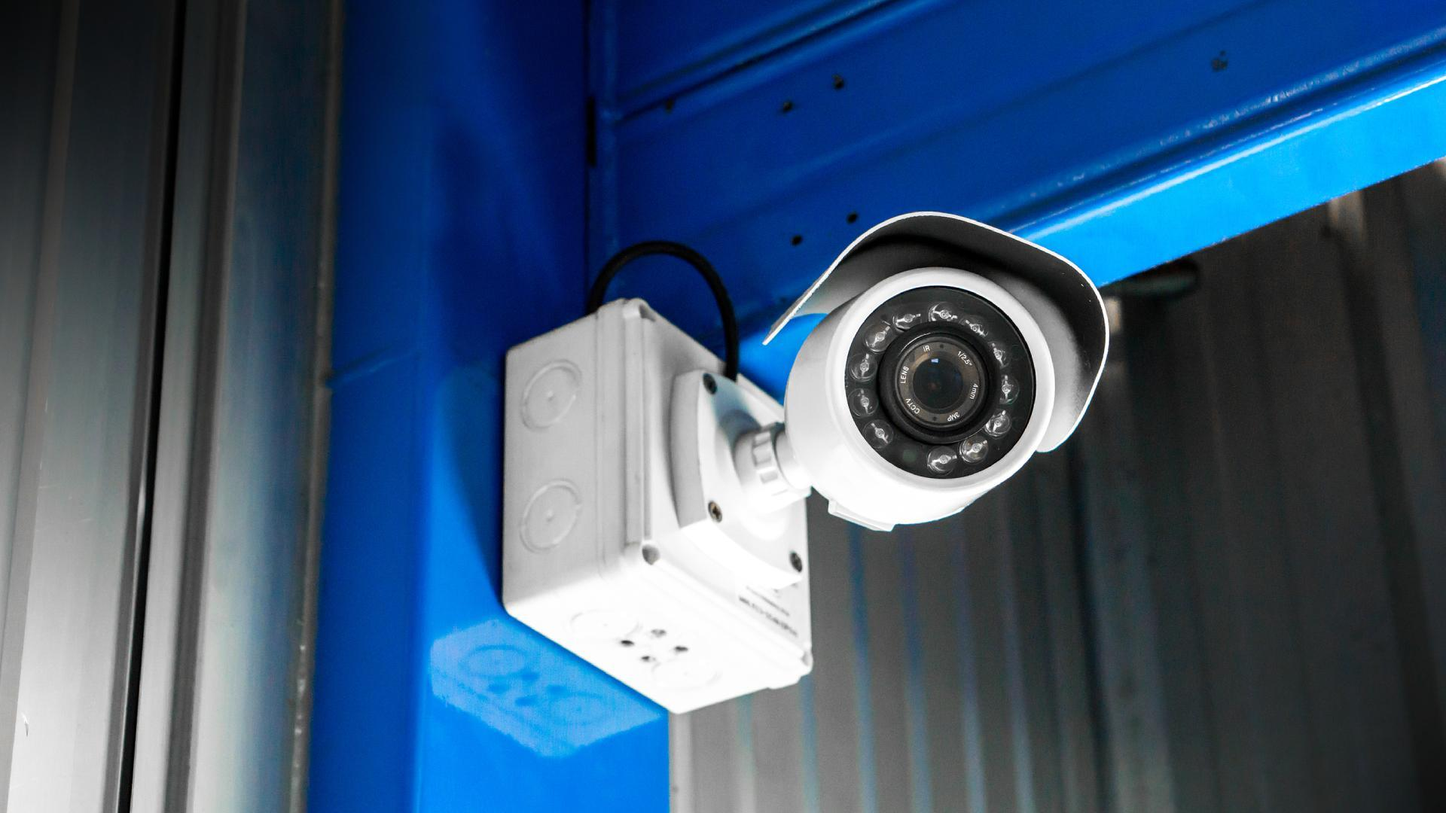CCTV: (499, 213, 1107, 716)
